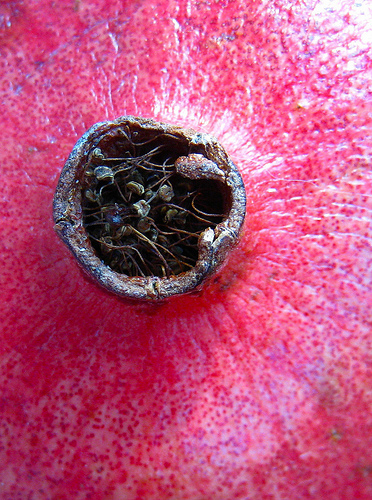pomogranate: (0, 0, 370, 498)
